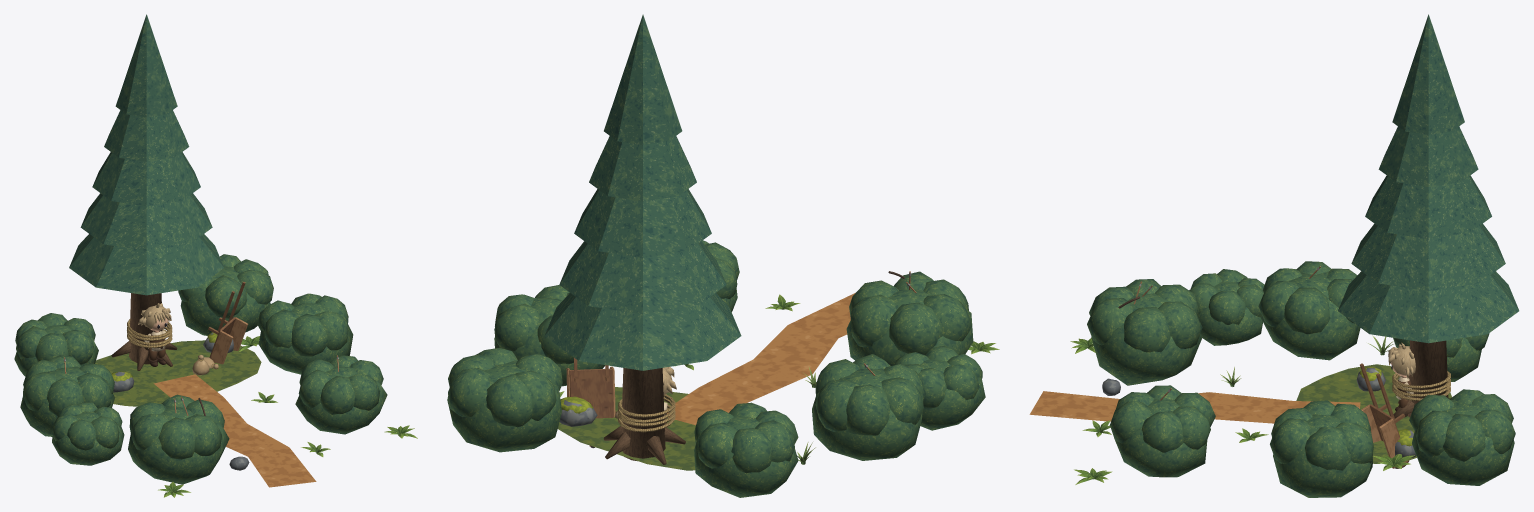
Rendered from ev05_captive.glb.
The picture shows the model from 3 angles, left to right: view 1: azimuth 30°, elevation 25°; view 2: azimuth 150°, elevation 25°; view 3: azimuth 270°, elevation 25°; orthographic projection. The views are drawn at different scales.
Visible parts, largest first — view 1: ev05_captive_bushes, ev05_captive_pine_needles, ev05_captive_ground_details, ev05_captive_pine_trunk, ev05_captive_props, ev05_captive_captive, ev05_captive_plants; view 2: ev05_captive_bushes, ev05_captive_pine_needles, ev05_captive_ground_details, ev05_captive_pine_trunk, ev05_captive_props, ev05_captive_plants; view 3: ev05_captive_bushes, ev05_captive_pine_needles, ev05_captive_ground_details, ev05_captive_pine_trunk, ev05_captive_plants, ev05_captive_props, ev05_captive_captive.
Part boxes in pixels (left/top/right/bottom): ev05_captive_bushes: left=14, top=254, right=387, bottom=484; ev05_captive_pine_needles: left=69, top=14, right=224, bottom=295; ev05_captive_ground_details: left=95, top=332, right=316, bottom=487; ev05_captive_pine_trunk: left=111, top=293, right=177, bottom=370; ev05_captive_props: left=192, top=281, right=248, bottom=375; ev05_captive_captive: left=138, top=303, right=171, bottom=366; ev05_captive_plants: left=158, top=336, right=417, bottom=497; ev05_captive_bushes: left=447, top=240, right=985, bottom=497; ev05_captive_pine_needles: left=544, top=14, right=741, bottom=370; ev05_captive_ground_details: left=557, top=293, right=855, bottom=470; ev05_captive_pine_trunk: left=603, top=368, right=685, bottom=464; ev05_captive_props: left=566, top=357, right=618, bottom=448; ev05_captive_plants: left=559, top=294, right=999, bottom=464; ev05_captive_bushes: left=1087, top=261, right=1515, bottom=497; ev05_captive_pine_needles: left=1338, top=14, right=1519, bottom=343; ev05_captive_ground_details: left=1029, top=364, right=1451, bottom=463; ev05_captive_pine_trunk: left=1392, top=340, right=1450, bottom=418; ev05_captive_plants: left=1070, top=335, right=1414, bottom=484; ev05_captive_props: left=1356, top=363, right=1409, bottom=468; ev05_captive_captive: left=1388, top=342, right=1415, bottom=416.
Size of what is drawn, in the model's own units: 7.83 by 8.13 by 8.5.
24 materials, 24 textured.
